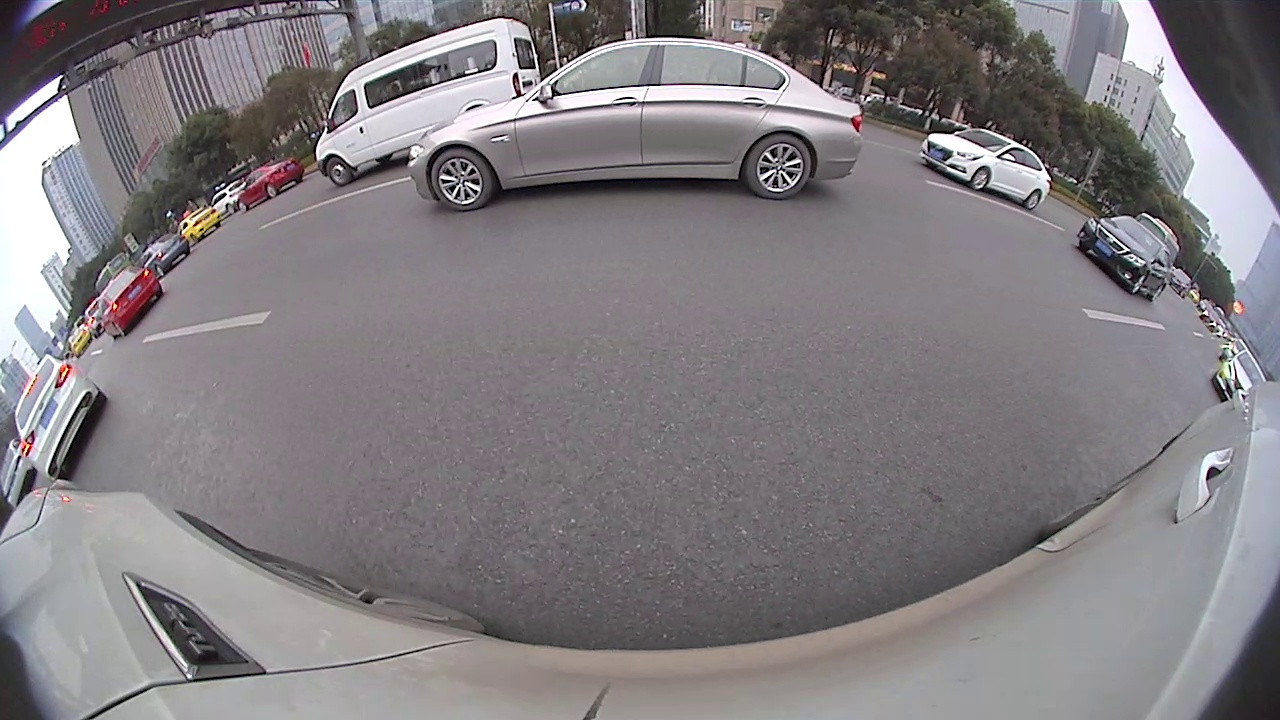car: (409, 40, 862, 211), (317, 18, 538, 186), (13, 357, 109, 480), (917, 132, 1048, 213), (1075, 218, 1170, 302), (97, 266, 163, 340), (231, 158, 305, 212), (1211, 350, 1269, 400)
front: (429, 144, 494, 213), (324, 153, 352, 183), (972, 164, 992, 189), (1133, 274, 1148, 294)
rear: (746, 128, 815, 201), (1026, 189, 1042, 210), (267, 184, 277, 198)
